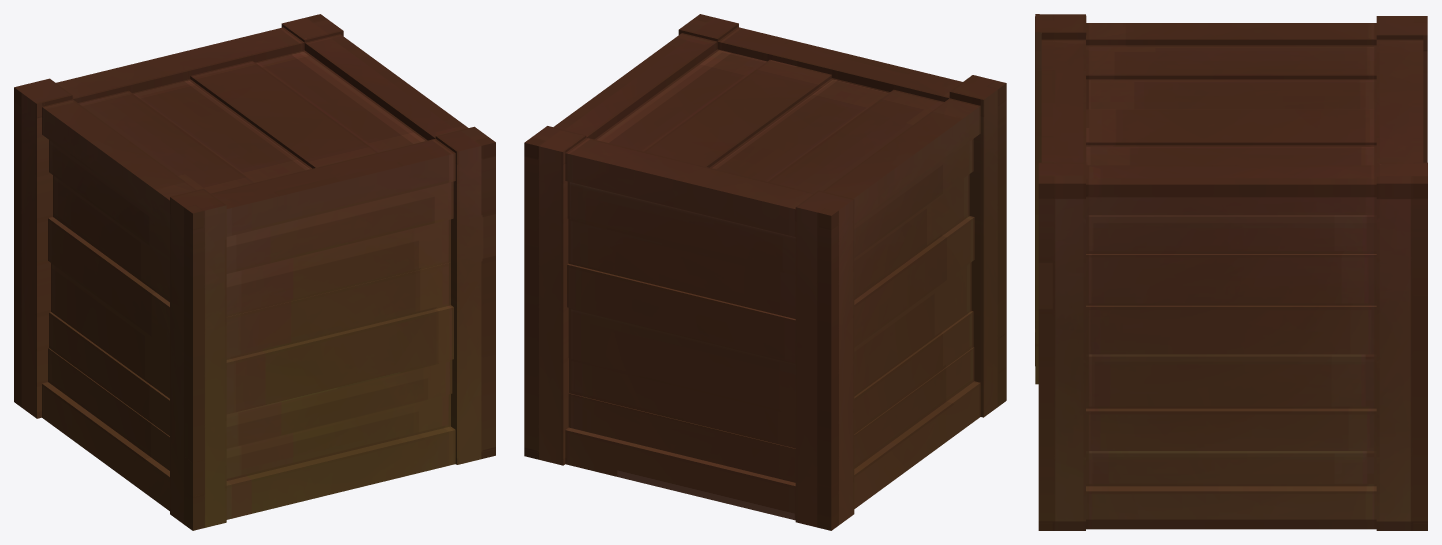
3 views of the same model, side by side, from view 1: azimuth 30°, elevation 25°; view 2: azimuth 150°, elevation 25°; view 3: azimuth 270°, elevation 25° (orthographic). The views are drawn at different scales.
Parts seen in each view (by area): view 1: Cube; view 2: Cube; view 3: Cube.
Part boxes in pixels (x1=…): Cube: x1=14, y1=14, x2=495, y2=530; Cube: x1=524, y1=14, x2=1006, y2=530; Cube: x1=1035, y1=14, x2=1427, y2=530.
Size of the model in its own units: 2.17 by 2.15 by 2.17.
1 material, 1 textured.
